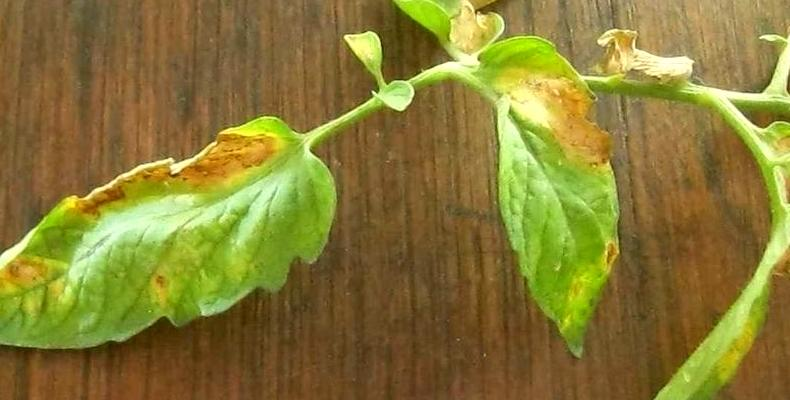Tomato Early blight leaf: (0, 118, 339, 372), (469, 22, 625, 371)
